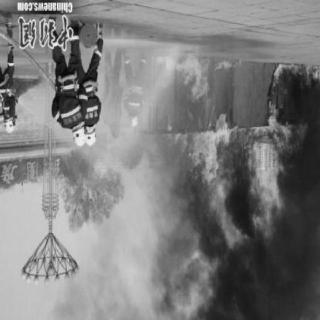other: (70, 118, 99, 156), (3, 110, 19, 136)
